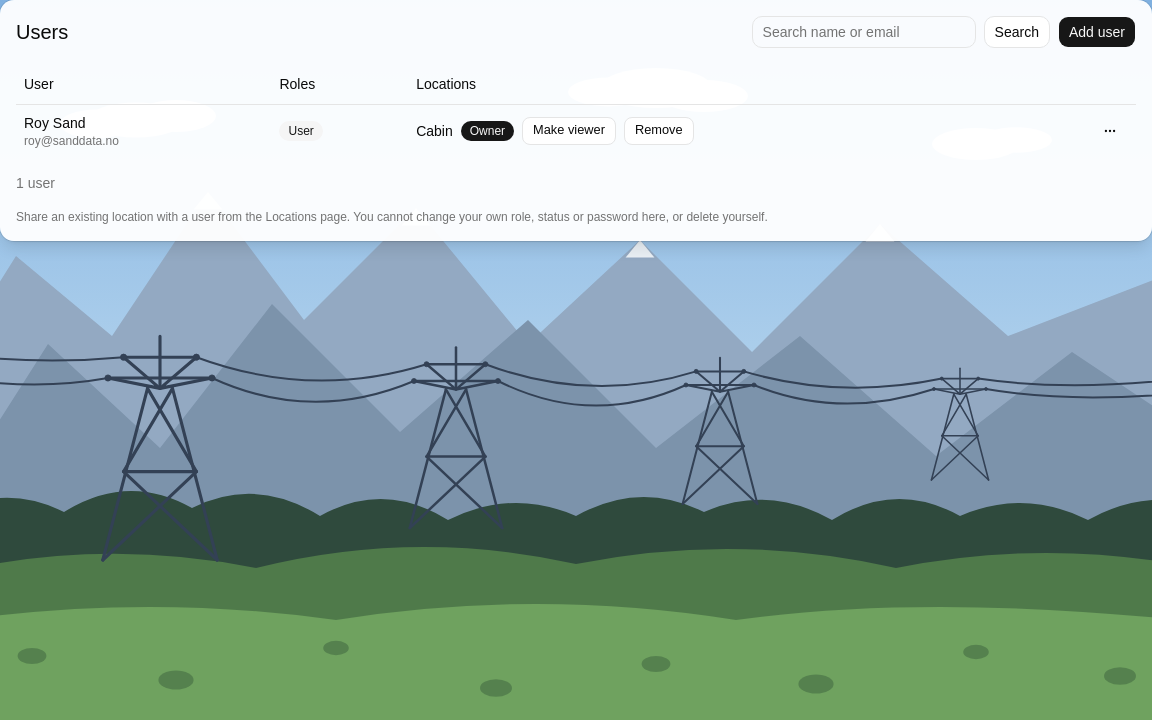
UsersPage location actions › opens the add-location dialog for the chosen user
Click the button named "Actions for roy@sanddata.no": (1110,130) [1092,116,1128,144]
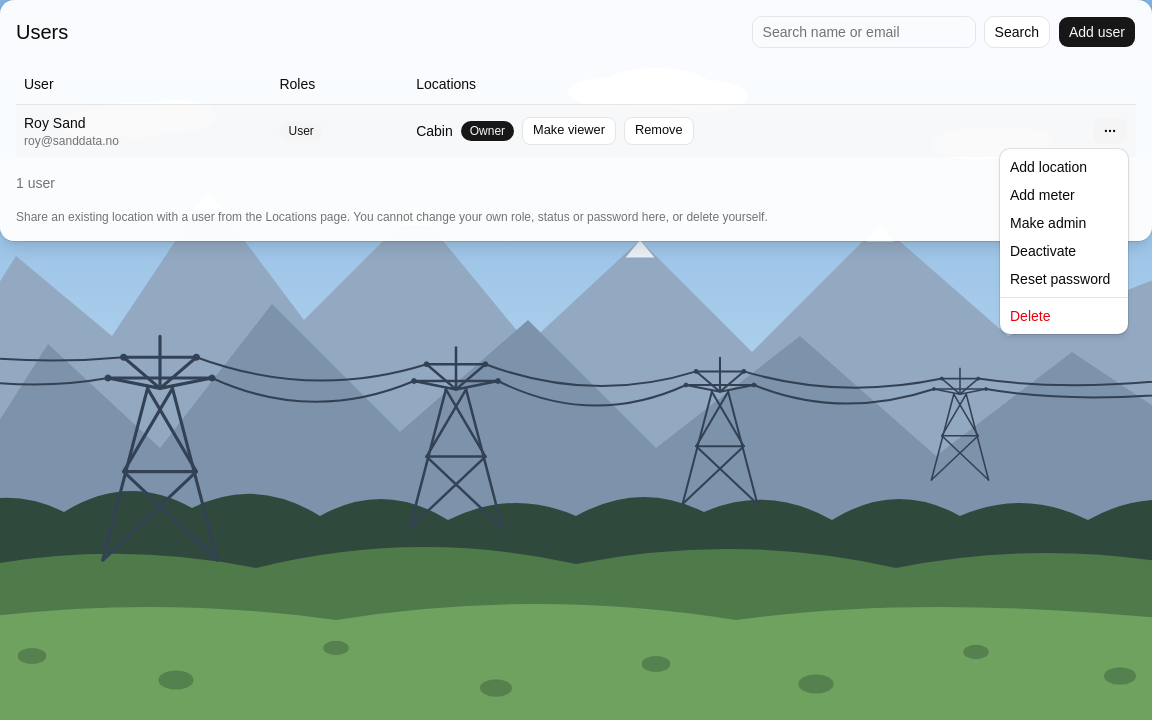
Click the menu item "Add location": (1049,167) [1010,159,1087,175]
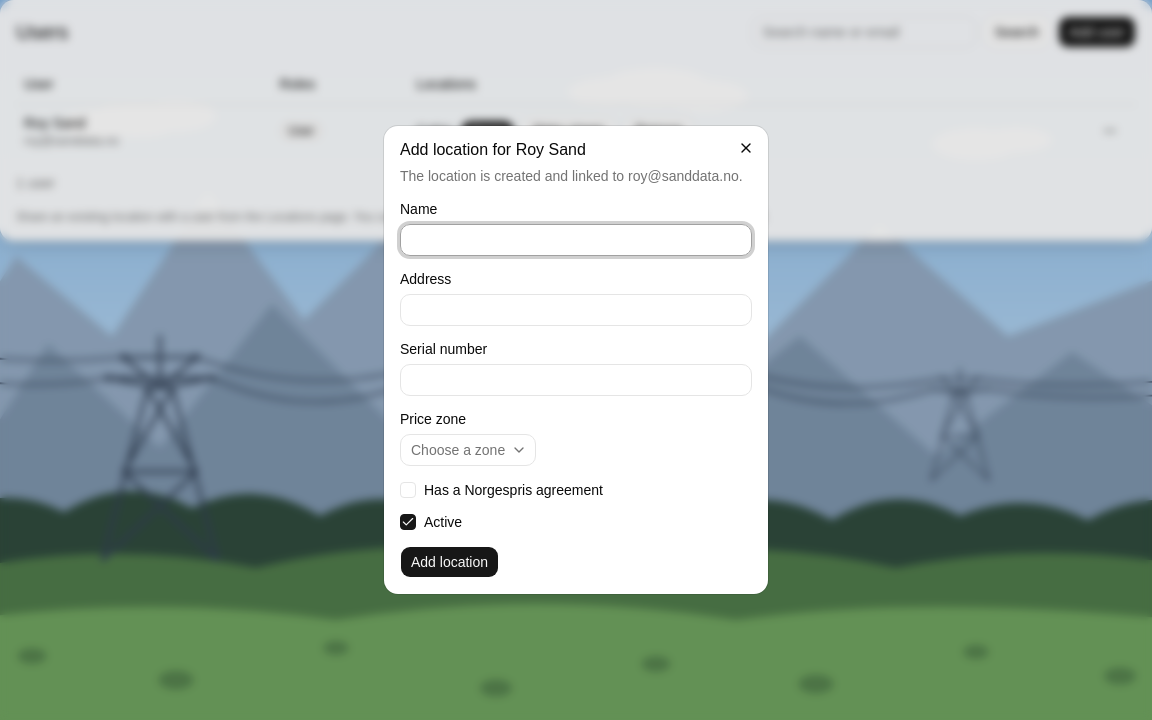
Result: the dialog shows "Add location for Roy Sand" at [384,126,768,594]
